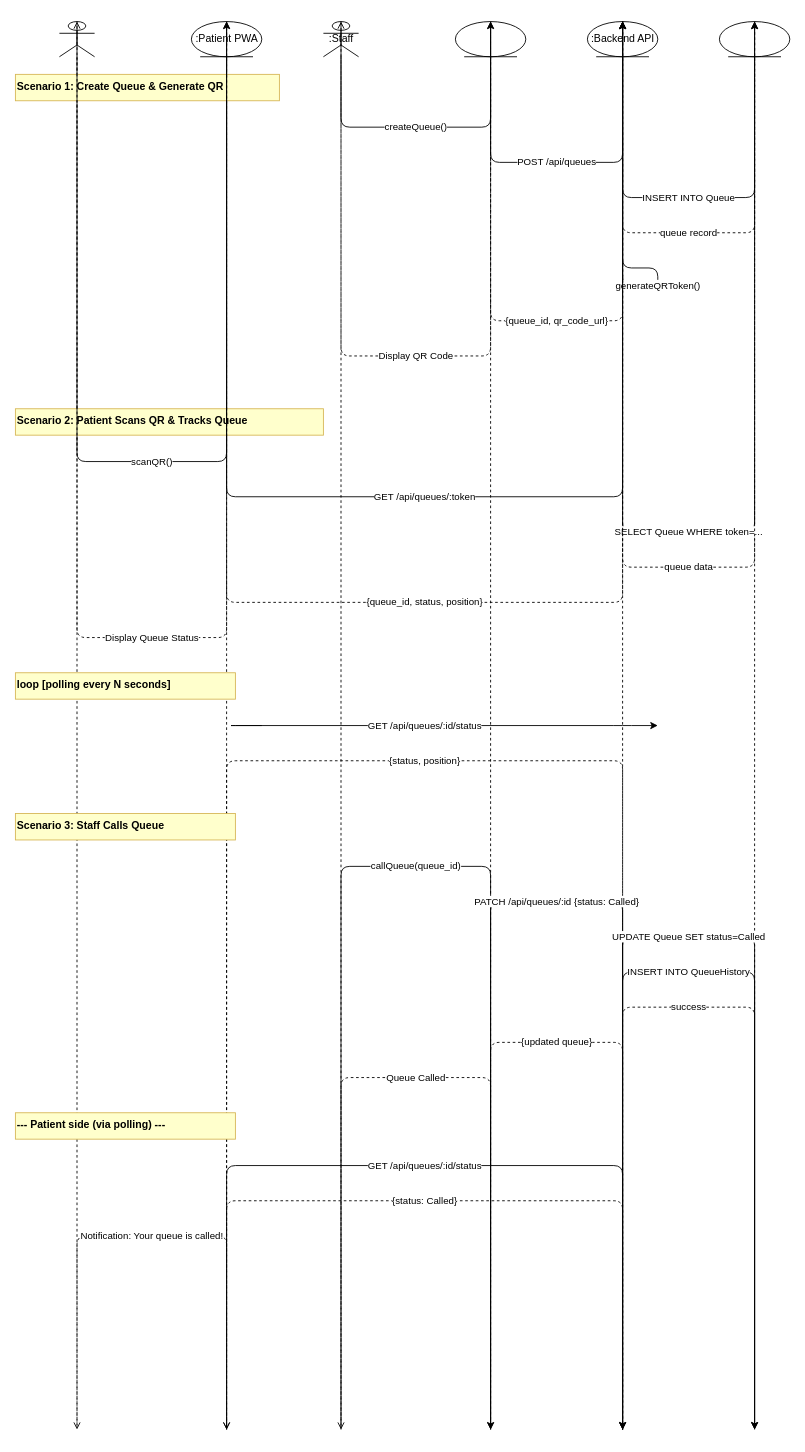
Image size: 805x1452. Some labels were removed from this diagram. The shapes that lost their labels are listed below. From the top down, each one's box as (x1, y1, x2, y2) in pixels, then its label:
(59, 21, 95, 1430): :Patient
(455, 21, 526, 1430): :Staff Website
(719, 21, 790, 1430): :Database
